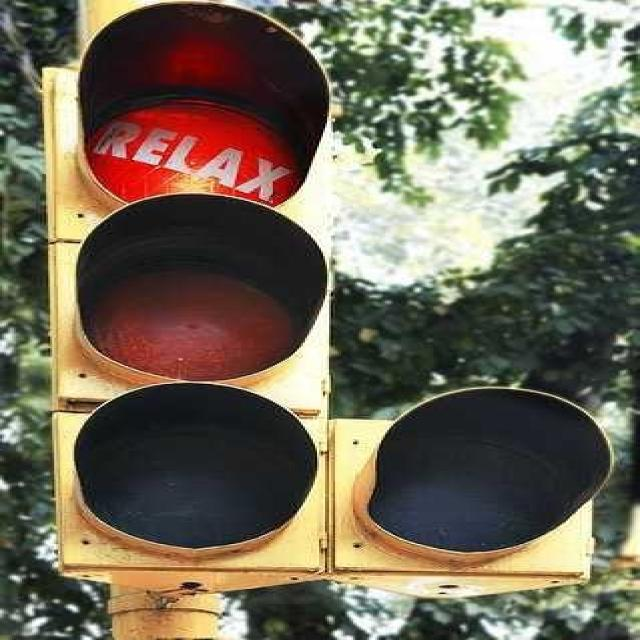Traffic Light -Red-: (38, 0, 355, 607)
